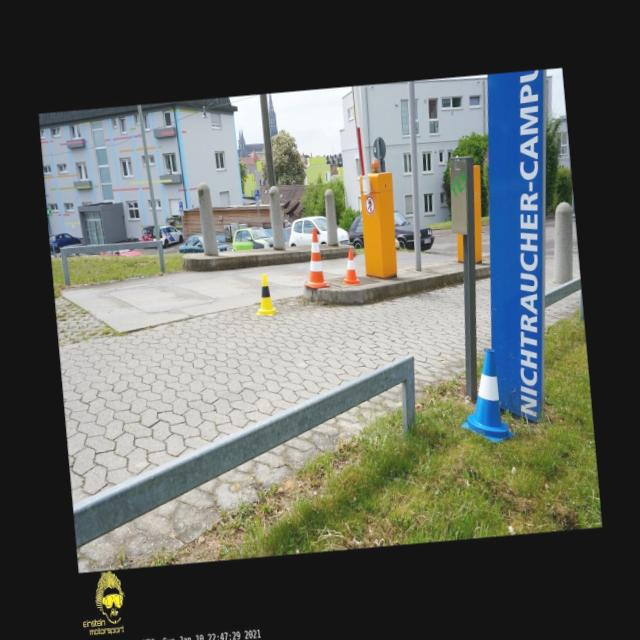blue_cone: (455, 348, 513, 444)
large_orange_cone: (300, 226, 330, 288)
orange_cone: (340, 247, 360, 285)
yellow_cone: (252, 272, 278, 316)
